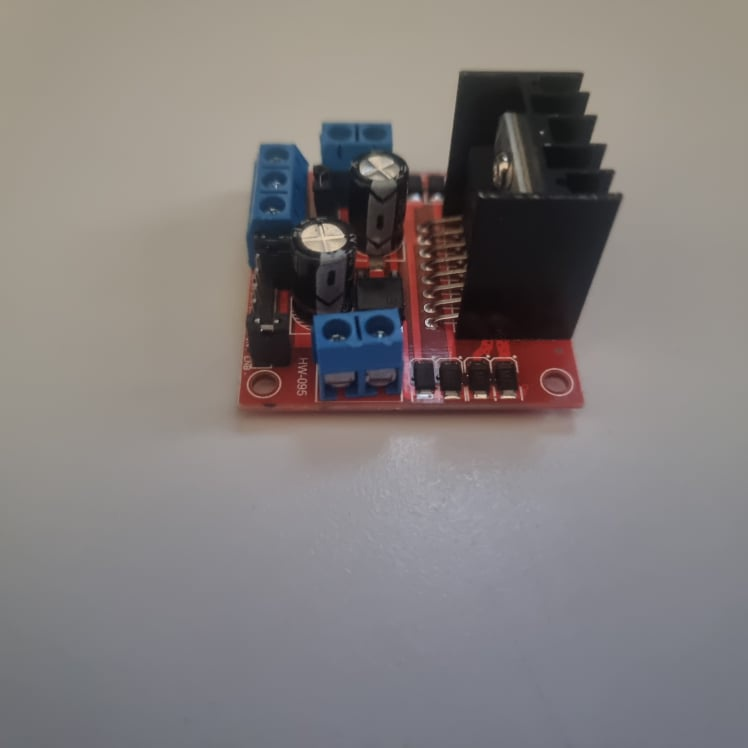MOTOR: (241, 69, 623, 410)
